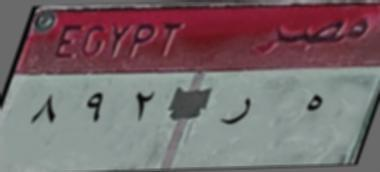2: (130, 80, 158, 130)
8: (28, 88, 63, 134)
9: (82, 86, 107, 130)
haa: (289, 84, 328, 132)
raa: (216, 86, 259, 130)
